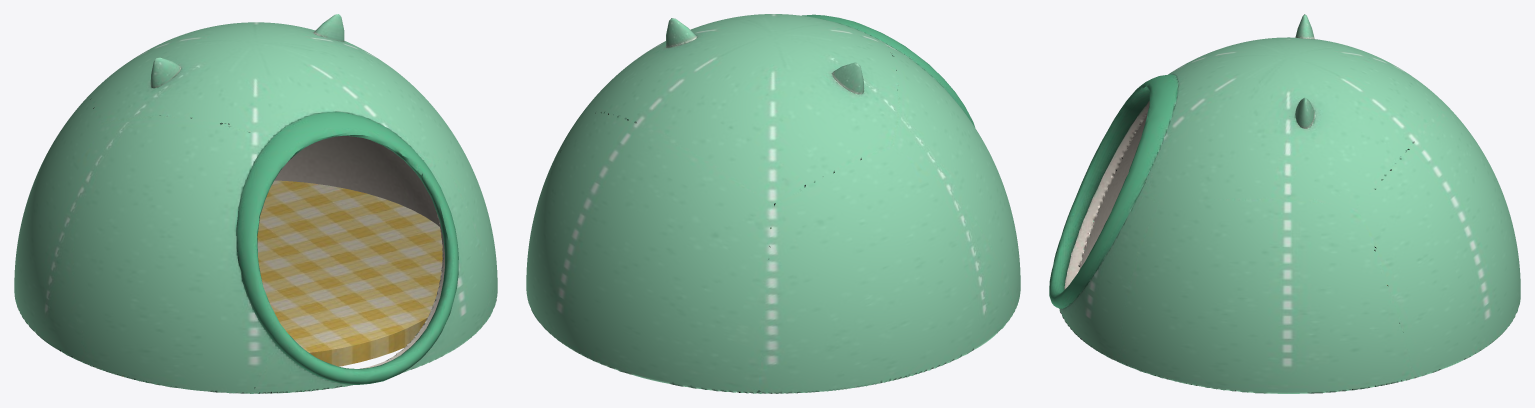
Rendered from hideout.fbx.
3 renders of one model, left to right at view 1: azimuth 30°, elevation 25°; view 2: azimuth 150°, elevation 25°; view 3: azimuth 270°, elevation 25°, orthographic. The views are drawn at different scales.
Parts seen in each view (by area): view 1: hideout; view 2: hideout; view 3: hideout.
Boxes of the visible parts, x1,y1,x2,y2 form: hideout: [14, 14, 497, 393]; hideout: [526, 14, 1020, 393]; hideout: [1049, 14, 1520, 393].
Bounding box in the file's own units: 1.44 × 0.8217 × 1.46.
Materials: 1 (1 with a texture image).
